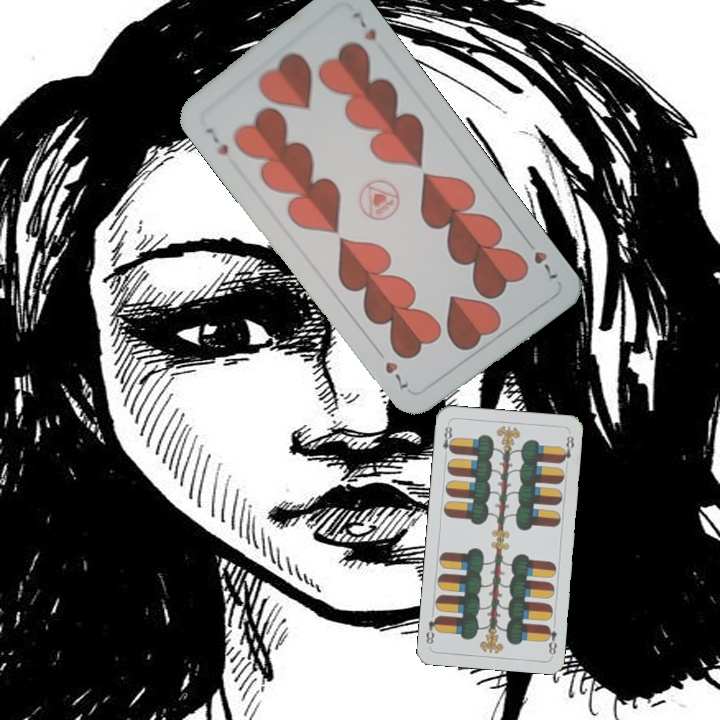E8: (542, 621, 560, 657), (439, 422, 456, 460)
H7: (530, 247, 561, 282), (201, 123, 231, 158)
